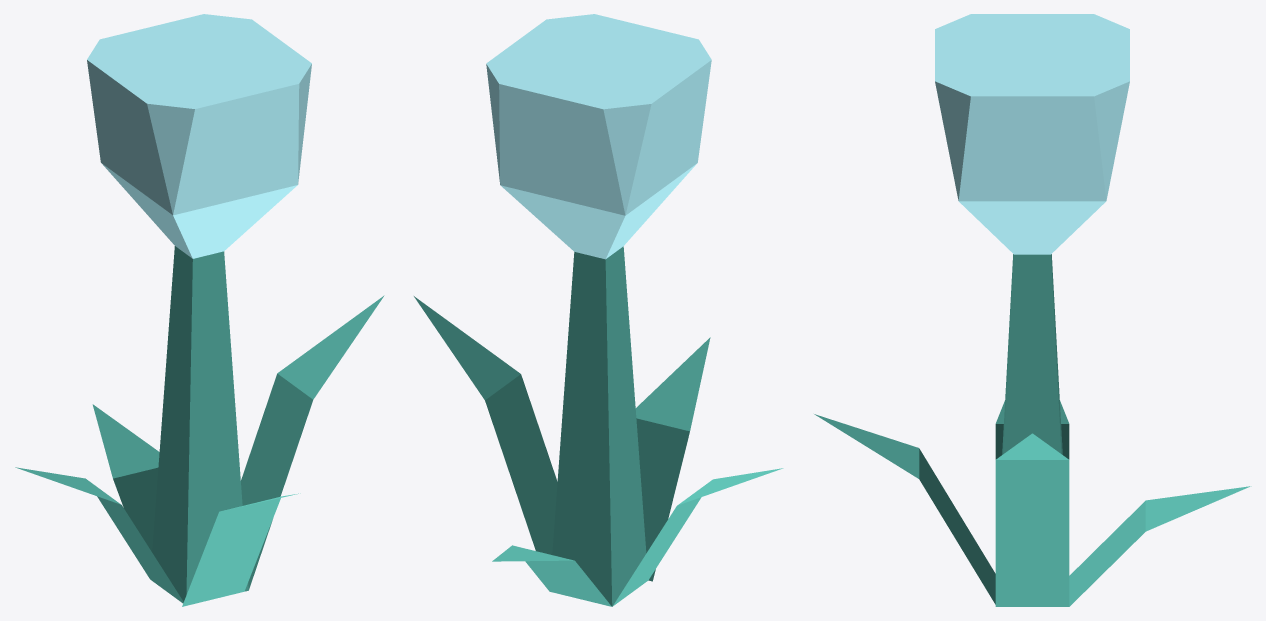
File: flower_blue1.obj
3 views of the same model, side by side, from view 1: azimuth 30°, elevation 25°; view 2: azimuth 150°, elevation 25°; view 3: azimuth 270°, elevation 25° (orthographic). The views are drawn at different scales.
Parts seen in each view (by area): view 1: flower_blue1; view 2: flower_blue1; view 3: flower_blue1.
Boxes of the visible parts, x1,y1,x2,y2 form: flower_blue1: (15,14,384,606); flower_blue1: (414,14,783,606); flower_blue1: (814,14,1251,606).
Size of the model in its own units: 2.08 by 2.8 by 2.08.
